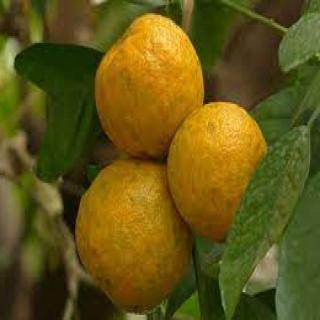orange: (70, 142, 194, 320), (87, 5, 209, 169), (170, 93, 270, 265)
